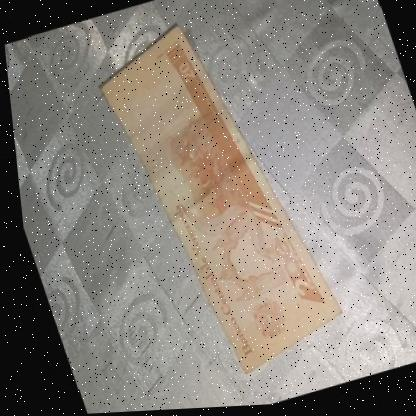twenty-back-vef: (82, 5, 348, 391)
